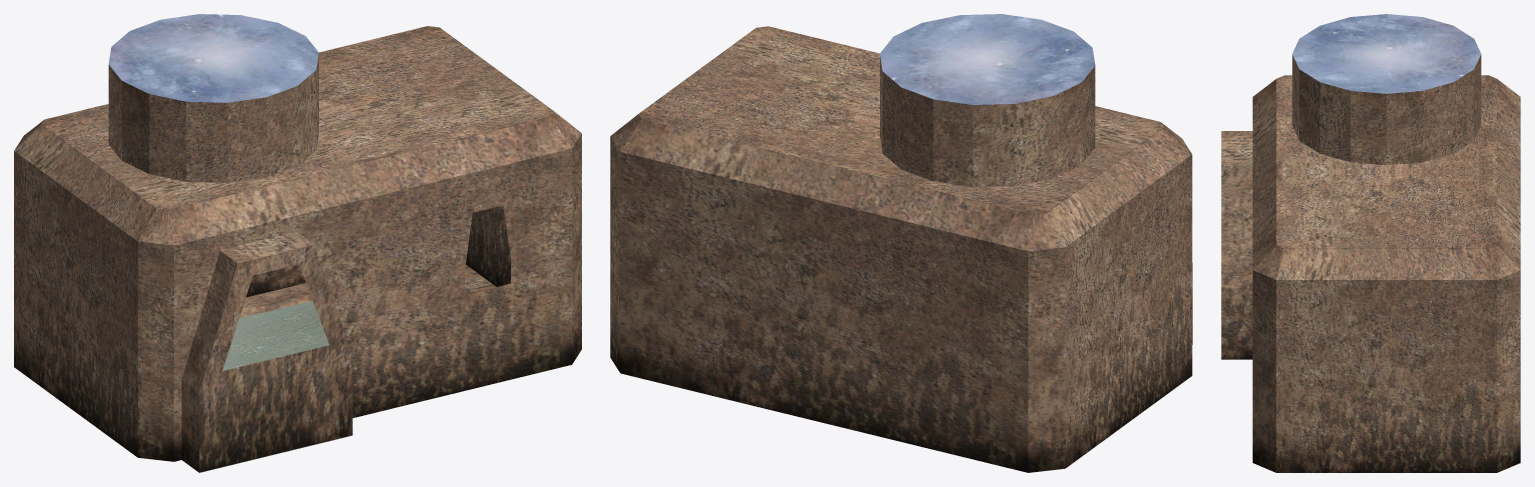
Rendered from thm_tato_jabbas_palace_r34_jail5_mesh_r34.fbx.
3 renders of one model, left to right at view 1: azimuth 30°, elevation 25°; view 2: azimuth 150°, elevation 25°; view 3: azimuth 270°, elevation 25°, orthographic. The views are drawn at different scales.
Parts seen in each view (by area): view 1: mesh_node; view 2: mesh_node; view 3: mesh_node.
Part boxes in pixels (left/top/right/bottom): mesh_node: left=14, top=14, right=581, bottom=472; mesh_node: left=610, top=14, right=1192, bottom=472; mesh_node: left=1221, top=14, right=1520, bottom=472.
Size of the model in its own units: 5.8 by 4.1 by 3.8.
